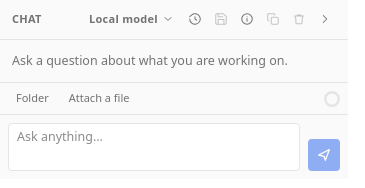
Scenario: ChatPanel: saved conversations › says so when nothing has been saved yet
This screenshot has width=365, height=188.
Step 1. Click the button named "Saved conversations" → click(195, 19), box top-left (184, 8), bottom-right (206, 30)
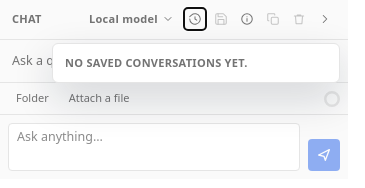
Now the text "No saved conversations yet." is shown, box top-left (65, 55), bottom-right (248, 70)
